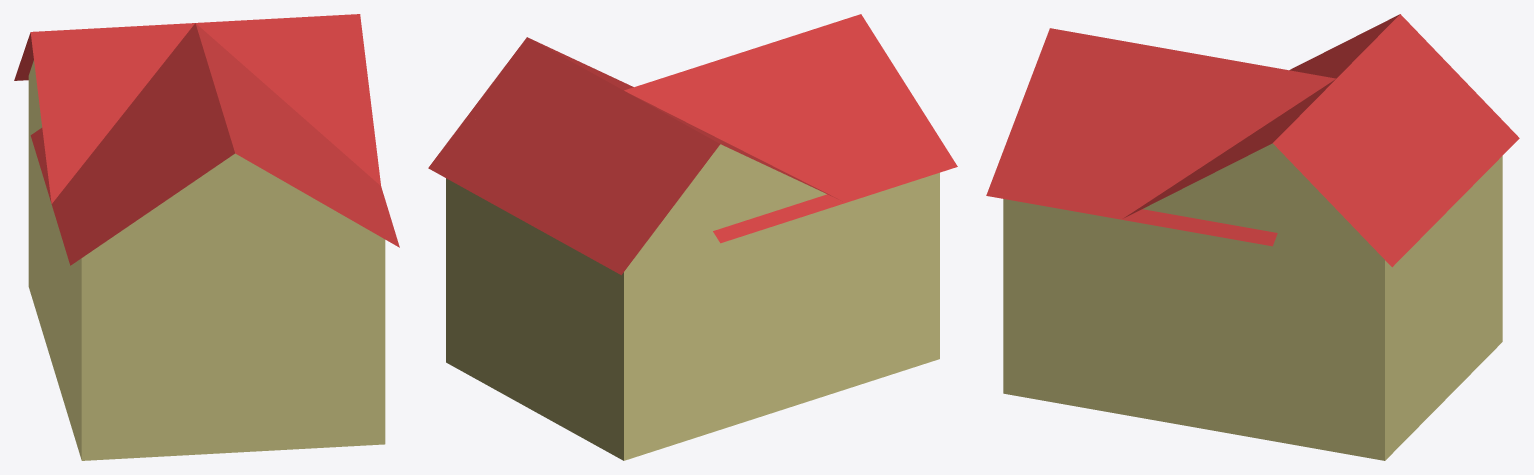
3 renders of one model, left to right at view 1: azimuth 30°, elevation 25°; view 2: azimuth 150°, elevation 25°; view 3: azimuth 270°, elevation 25°, orthographic. The views are drawn at different scales.
Bounding box in the file's own units: 18.01 × 20.22 × 12.71.
